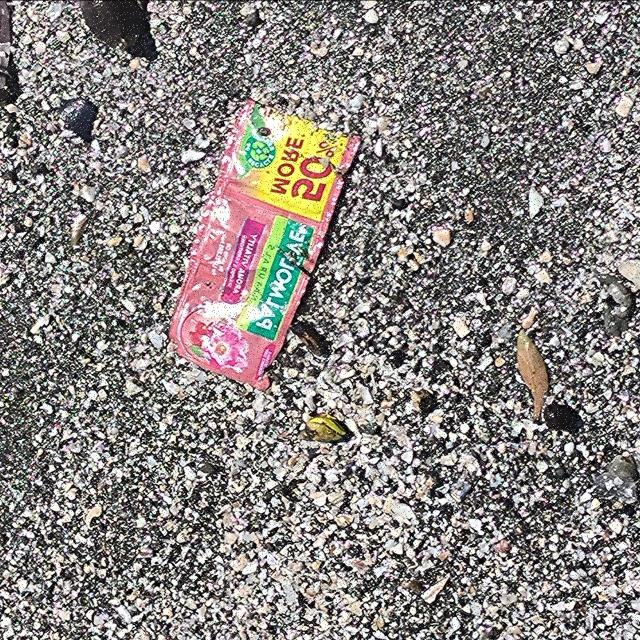plastic_waste: (168, 97, 363, 393)
